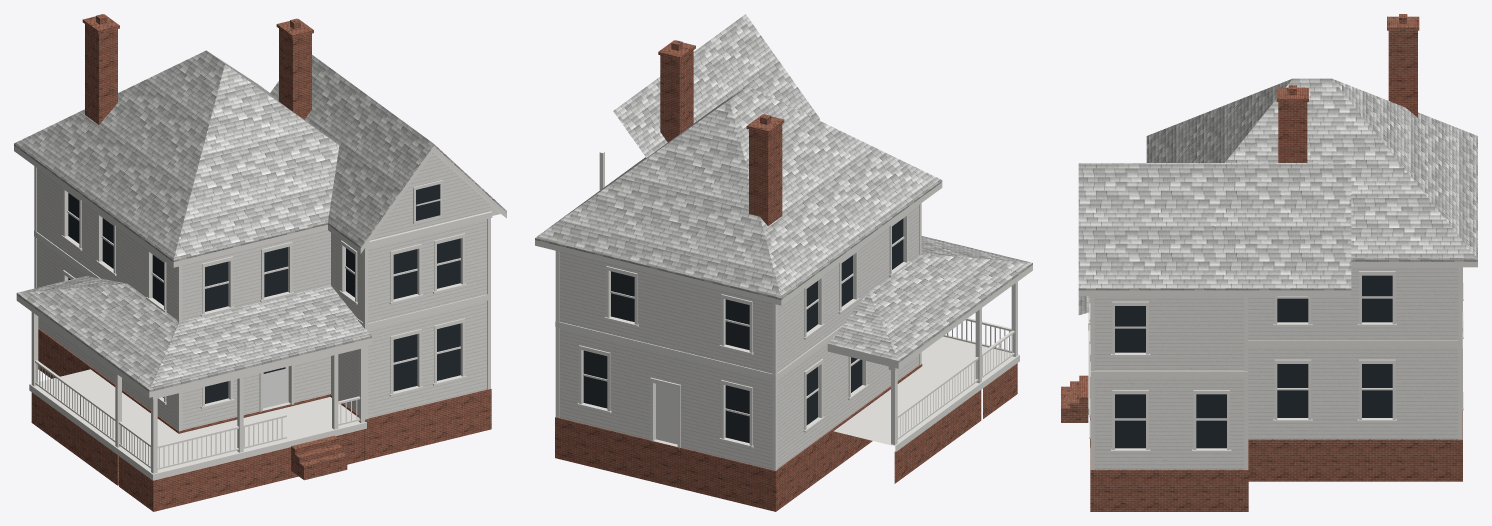
Rendered from house-victorian.glb.
The picture shows the model from 3 angles, left to right: view 1: azimuth 30°, elevation 25°; view 2: azimuth 150°, elevation 25°; view 3: azimuth 270°, elevation 25°; orthographic projection. The views are drawn at different scales.
Visible parts, largest first — view 1: House; view 2: House; view 3: House.
Part boxes in pixels (x1=…): House: x1=14, y1=14, x2=506, y2=511; House: x1=535, y1=14, x2=1032, y2=511; House: x1=1061, y1=14, x2=1477, y2=511.
Size of the model in its own units: 13.2 by 12.74 by 12.84.
6 materials, 3 textured.
